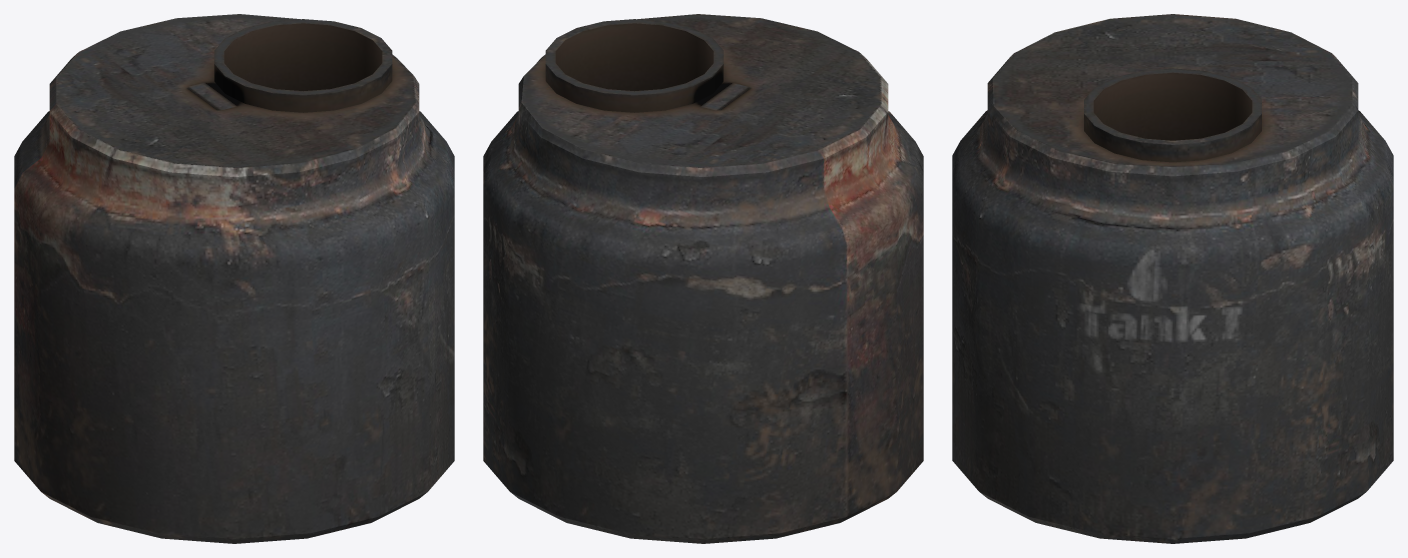
The model's file is Tank_01.FBX.
The picture shows the model from 3 angles, left to right: view 1: azimuth 30°, elevation 25°; view 2: azimuth 150°, elevation 25°; view 3: azimuth 270°, elevation 25°; orthographic projection.
Parts seen in each view (by area): view 1: Tank_01; view 2: Tank_01; view 3: Tank_01.
Part boxes in pixels (x1,y1,x2,y2): Tank_01: (14, 14, 454, 543); Tank_01: (483, 14, 923, 543); Tank_01: (952, 14, 1393, 543).
Size of the model in its own units: 125 by 117 by 123.
